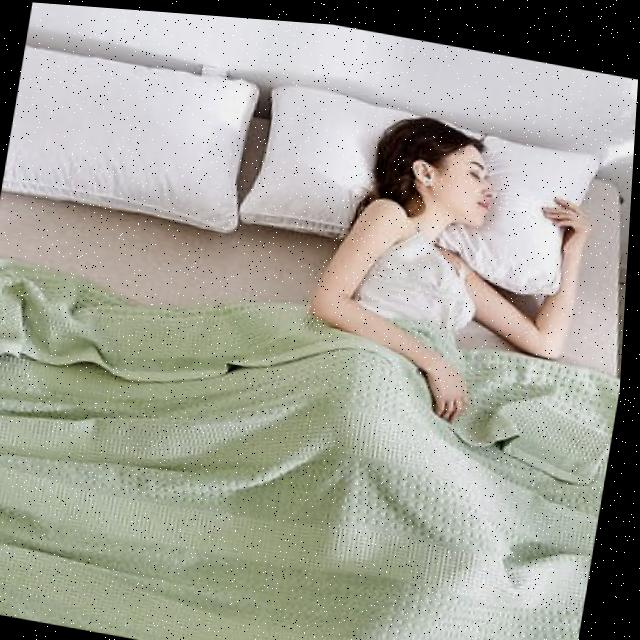sleeping-person: (244, 41, 639, 640)
